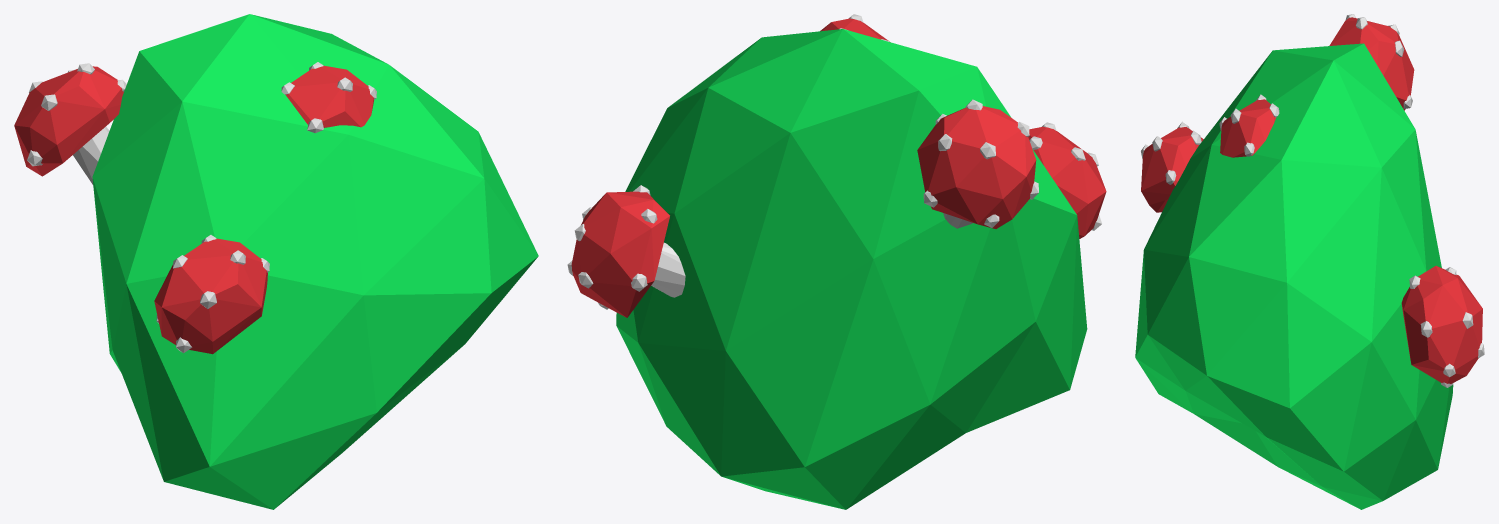
File: mushroom,.fbx
3 renders of one model, left to right at view 1: azimuth 30°, elevation 25°; view 2: azimuth 150°, elevation 25°; view 3: azimuth 270°, elevation 25°, orthographic. The views are drawn at different scales.
Visible parts, largest first — view 1: Mushroom1.014; view 2: Mushroom1.014; view 3: Mushroom1.014.
Boxes of the visible parts, <box> form: Mushroom1.014: <box>14,14,538,509</box>; Mushroom1.014: <box>567,14,1106,509</box>; Mushroom1.014: <box>1135,14,1484,509</box>.
Size of the model in its own units: 292 by 287 by 216.
